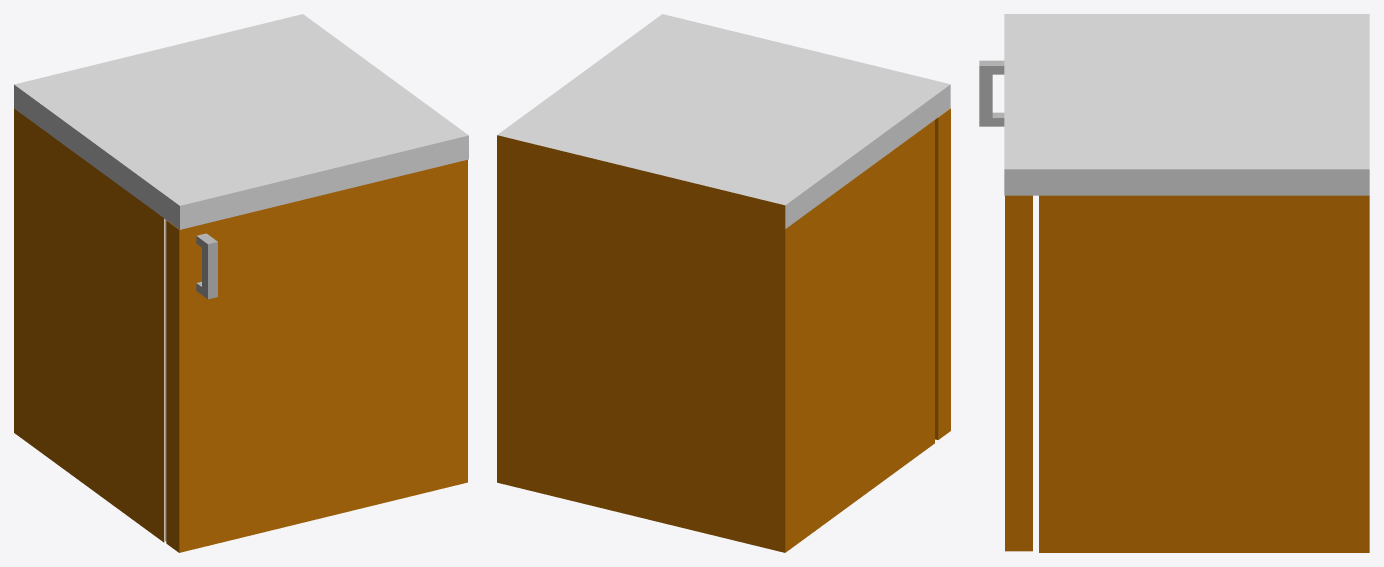
File: sweethome3d-contributions-red-cabinet.glb
3 views of the same model, side by side, from view 1: azimuth 30°, elevation 25°; view 2: azimuth 150°, elevation 25°; view 3: azimuth 270°, elevation 25° (orthographic). The views are drawn at different scales.
Parts seen in each view (by area): view 1: Cube_Cube_Wood_Cherry, Cube_Cube_Material, Cube_Cube_Aluminum; view 2: Cube_Cube_Wood_Cherry, Cube_Cube_Material; view 3: Cube_Cube_Wood_Cherry, Cube_Cube_Material, Cube_Cube_Aluminum.
Part boxes in pixels (box(x1,y1,x2,y2)): Cube_Cube_Wood_Cherry: box(14, 108, 467, 552); Cube_Cube_Material: box(14, 14, 468, 229); Cube_Cube_Aluminum: box(165, 219, 217, 541); Cube_Cube_Wood_Cherry: box(497, 108, 950, 552); Cube_Cube_Material: box(497, 14, 950, 228); Cube_Cube_Wood_Cherry: box(1005, 195, 1369, 552); Cube_Cube_Material: box(1004, 14, 1369, 195); Cube_Cube_Aluminum: box(979, 60, 1004, 126).
Size of the model in its own units: 2.62 by 3.02 by 2.78.
